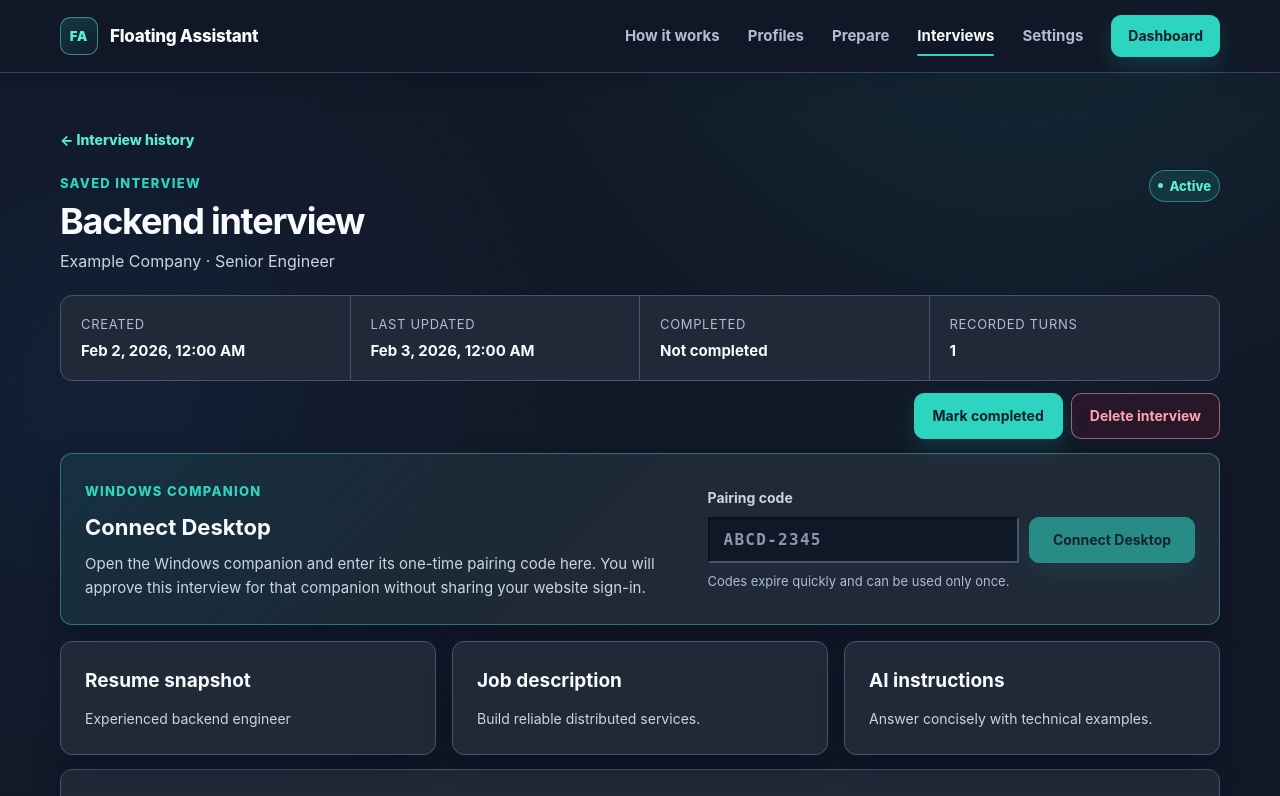
Test: website routing and authentication › reports completion failure and keeps the interview active
Step 1. Click the button "Mark completed" → (988, 416), box [914, 393, 1063, 439]
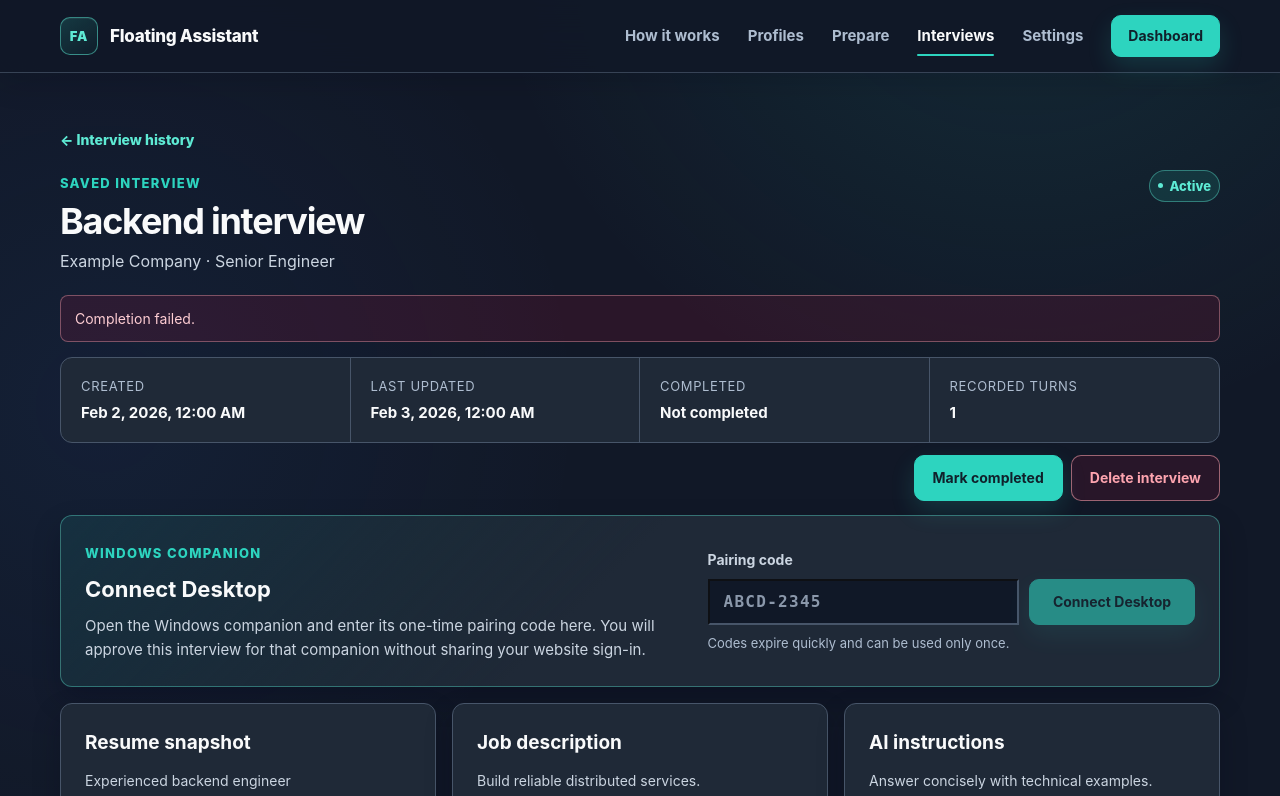
Expected: the button "Mark completed" is shown, [914, 455, 1063, 501]
Expected: the message reads "Completion failed.", [75, 310, 195, 327]
